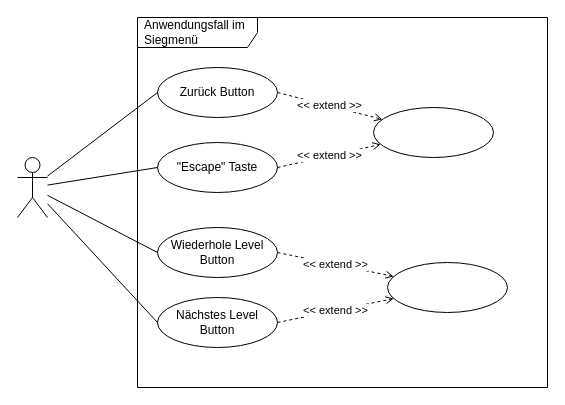
The diagram is 565 pixels wide and 405 high, and some of its shapes have lost their labels. Each missing label, with the centre of its shape:
"Actor" belongs at point 32,187.
"Spiele ausgewähltes Level" belongs at point 447,287.
"zur Levelauswahl" belongs at point 433,132.
